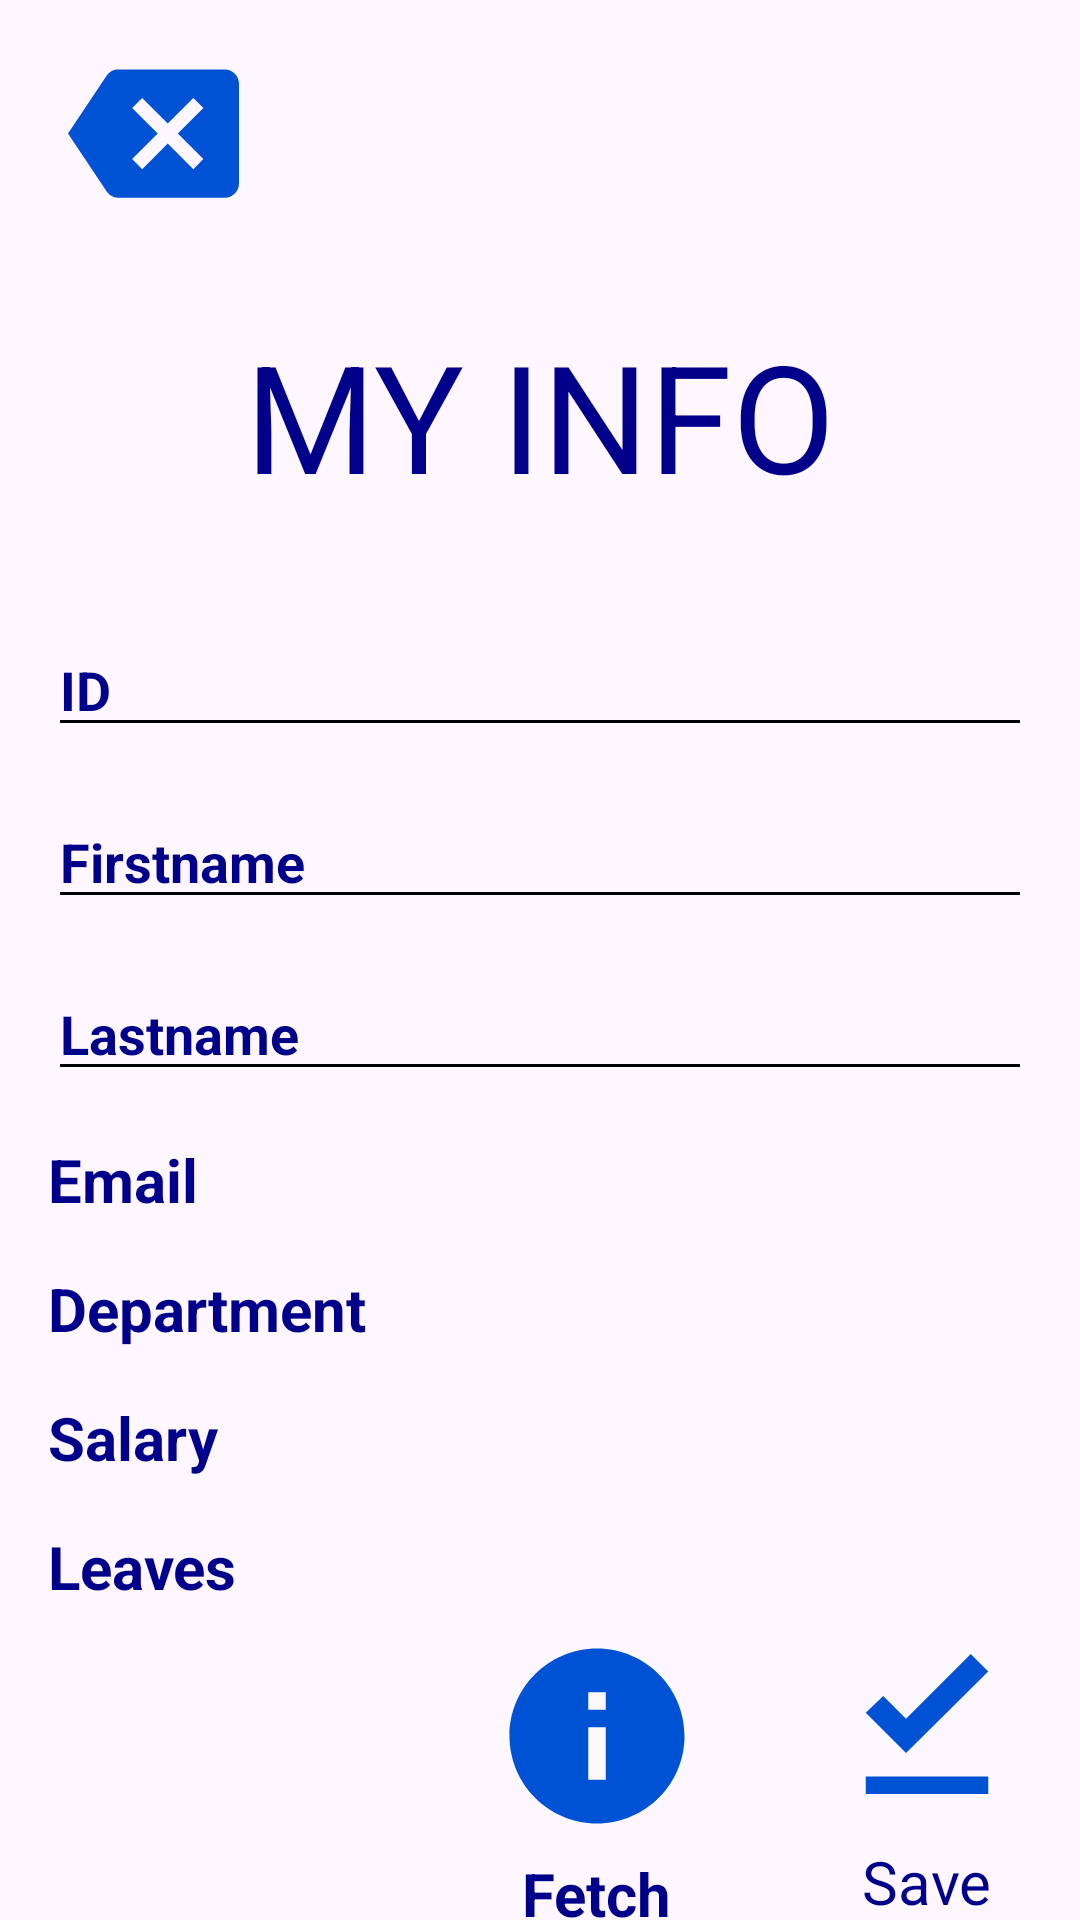

Icons on this 1080×1920 Android screen, each with its box as rect(x1, y1, x2, y2):
info: rect(509, 1648, 685, 1824)
